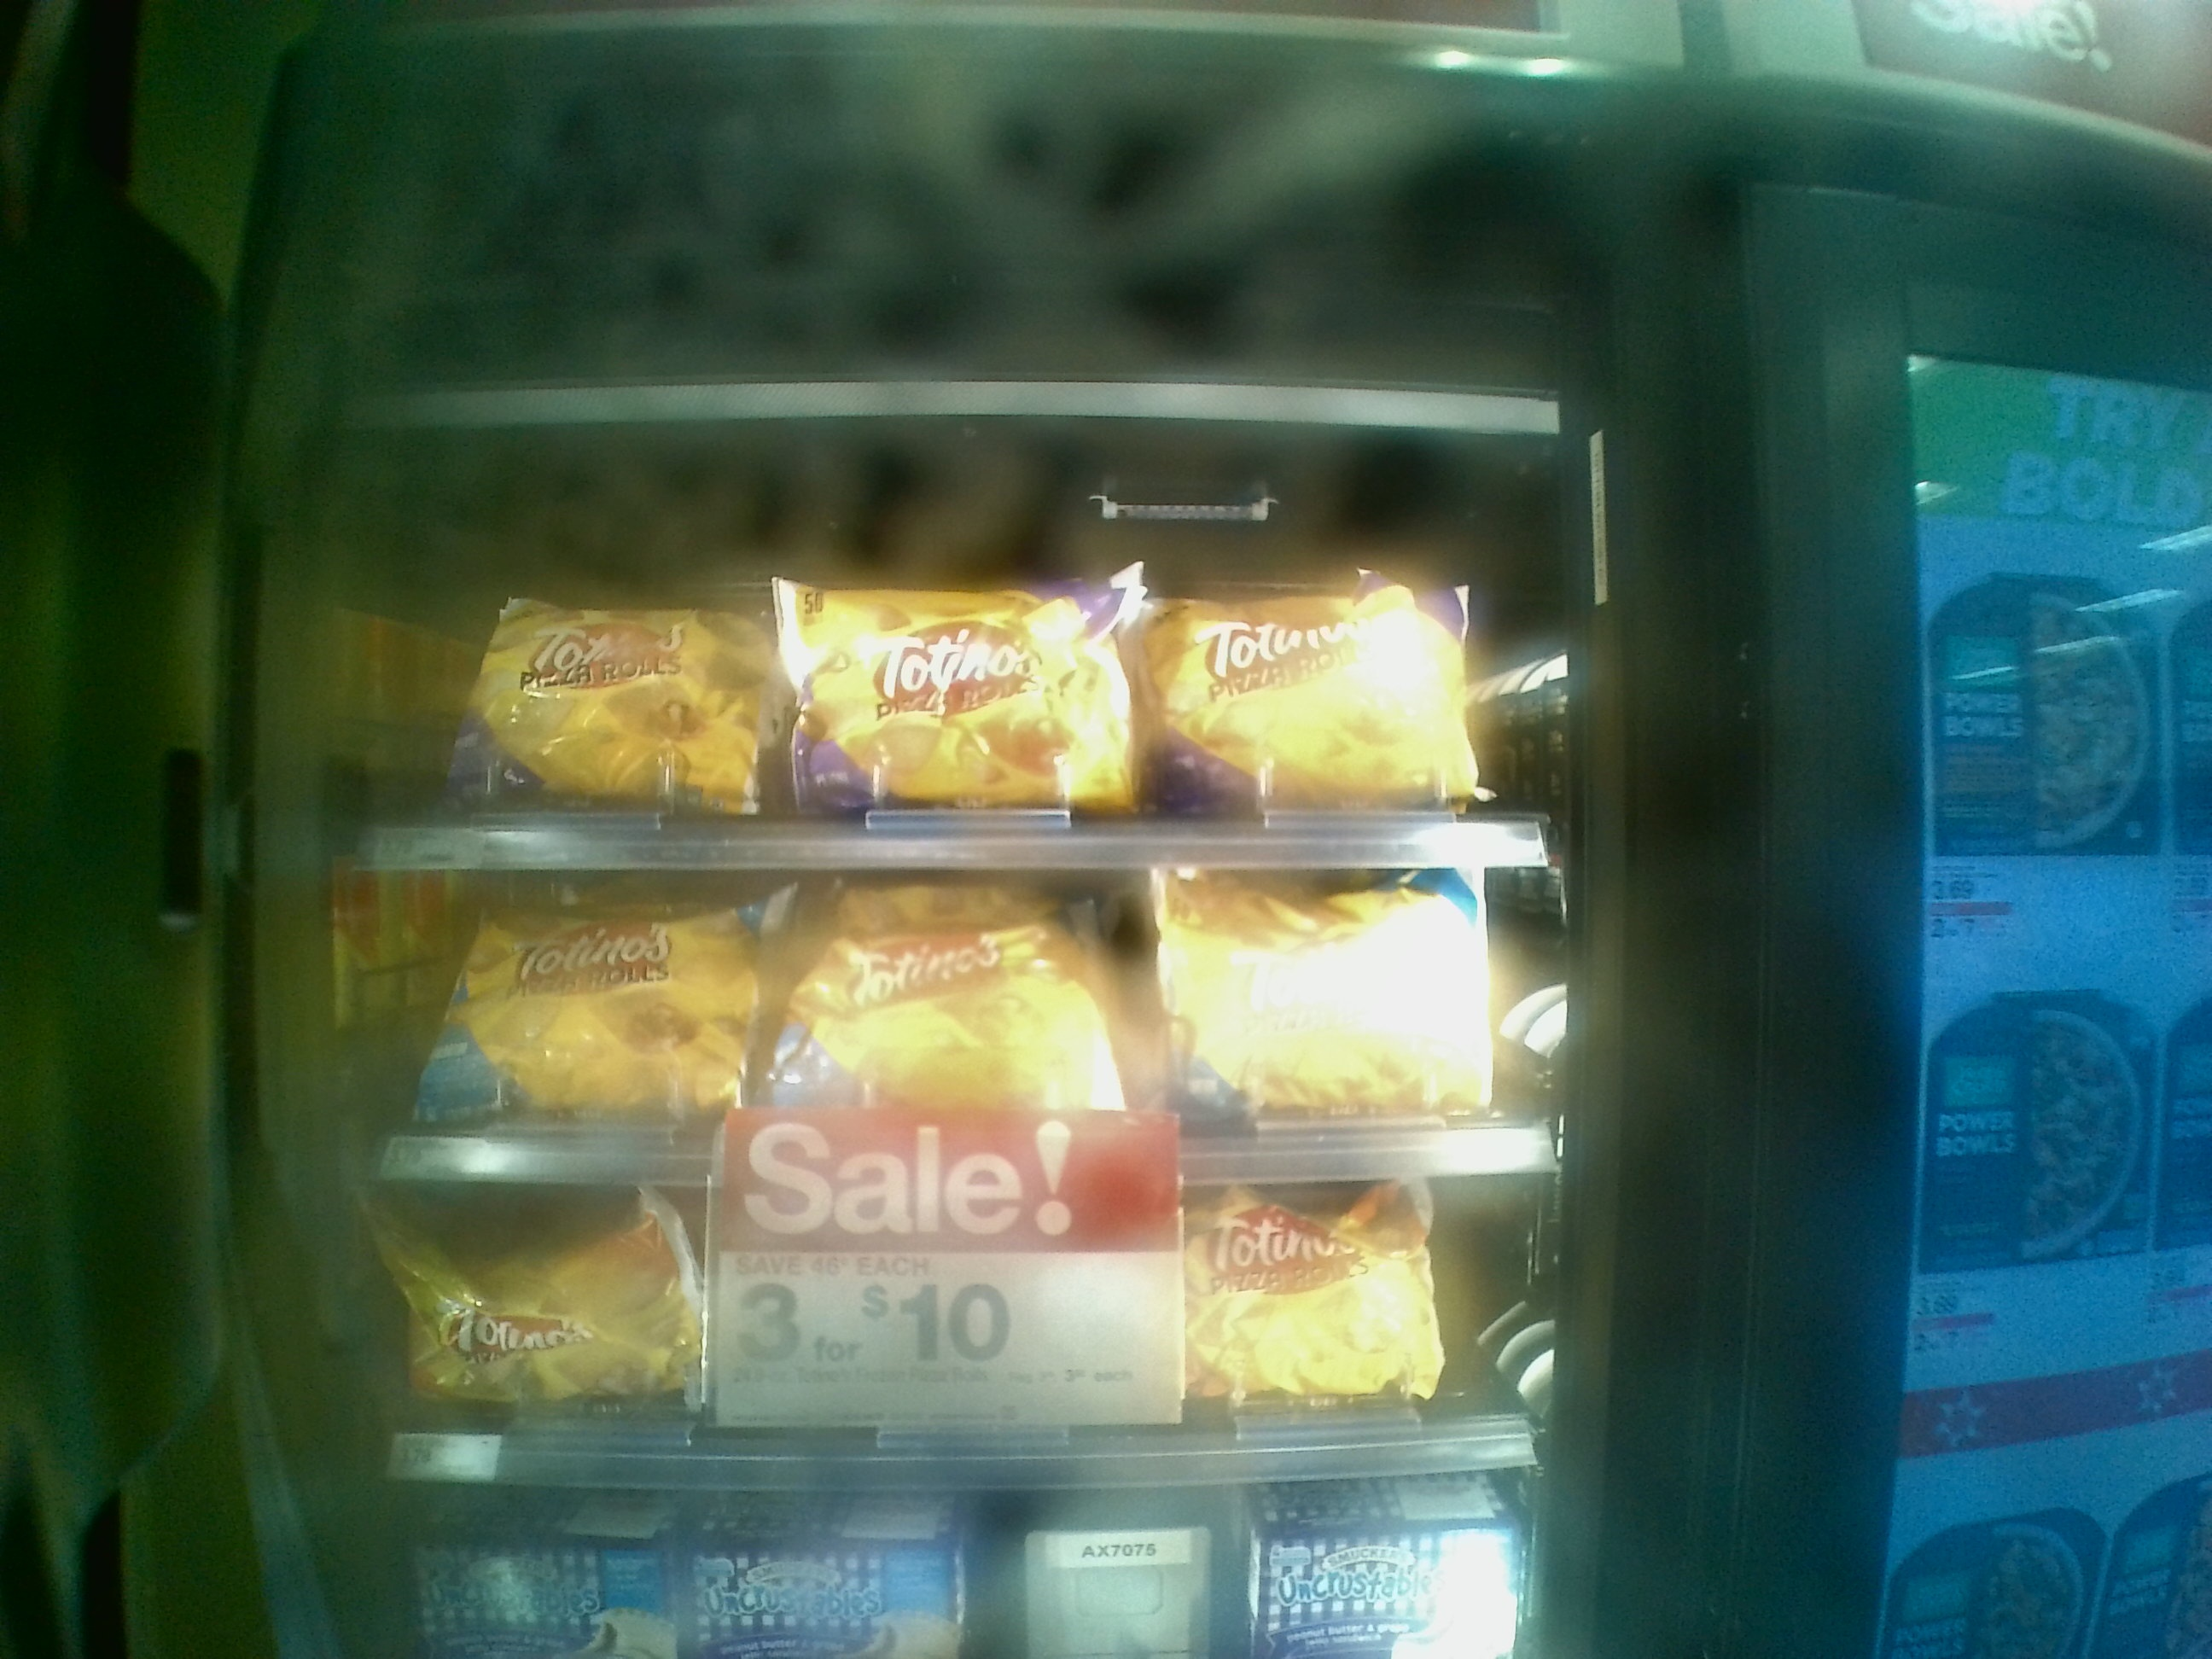shelf: (298, 423, 1564, 877), (308, 884, 1559, 1187), (333, 1197, 1540, 1481)
